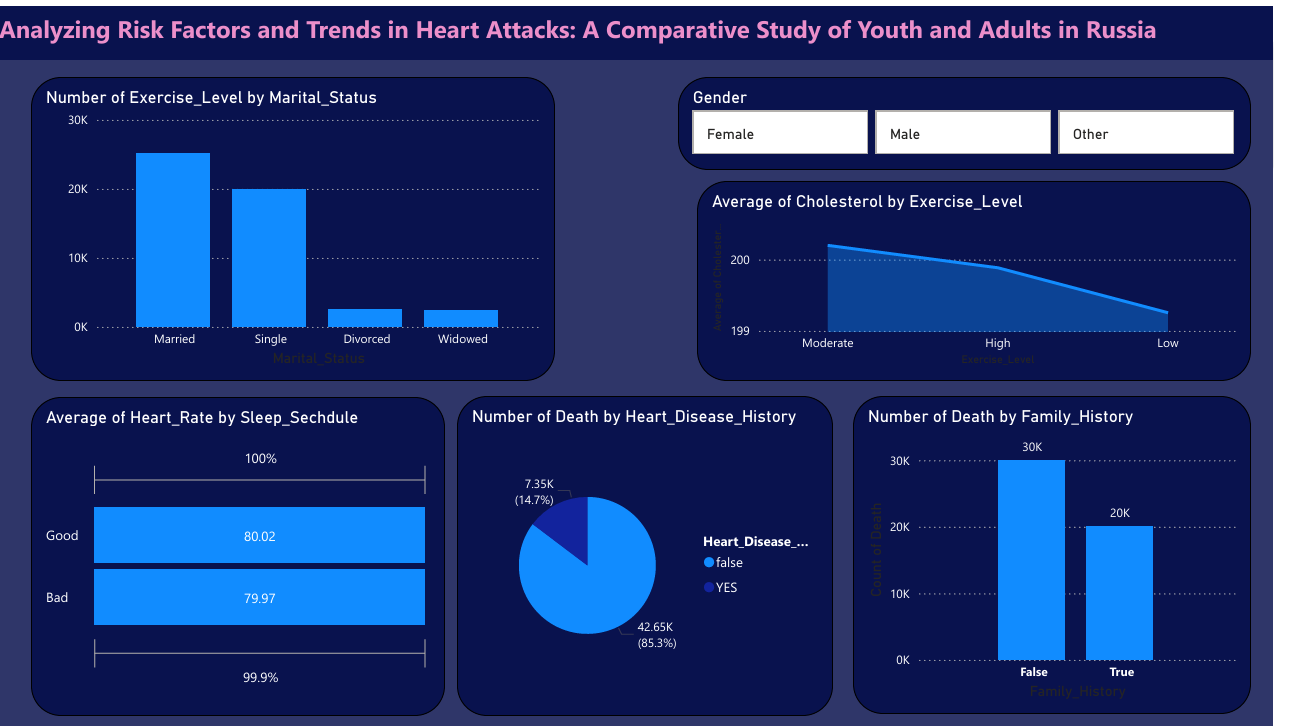

The dashboard page shown, as its layout file describes it:
{"tool":"powerbi","page":{"name":"Page 3","canvas":[1280,720],"ordinal":2},"visuals":[{"type":"areaChart","fields":{"Category":["heart_attack_russia_youth_vs_ad.Exercise_Level"],"Y":["Avg(heart_attack_russia_youth_vs_ad.Cholesterol)"]},"box":[702.9,174.3,554.3,200],"z":0},{"type":"funnel","fields":{"Category":["heart_attack_russia_youth_vs_ad.Sleep_Sechdule"],"Y":["Avg(heart_attack_russia_youth_vs_ad.Heart_Rate)"]},"box":[37.1,390,414.3,318.6],"z":1000},{"type":"columnChart","title":"Number of Exercise_Level by Marital_Status","fields":{"Category":["heart_attack_russia_youth_vs_ad.Marital_Status"],"Y":["CountNonNull(heart_attack_russia_youth_vs_ad.Exercise_Level)"]},"box":[37.1,70,524.3,304.3],"z":2000},{"type":"advancedSlicerVisual","fields":{"Values":["heart_attack_russia_youth_vs_ad.Gender"]},"box":[684.3,70,572.9,92.9],"z":3000},{"type":"textbox","box":[0,0,1280,54.3],"z":4000},{"type":"pieChart","title":"Number of Death by Heart_Disease_History","fields":{"Category":["heart_attack_russia_youth_vs_ad.Heart_Disease_History"],"Y":["CountNonNull(heart_attack_russia_youth_vs_ad.Death)"]},"box":[462.9,388.6,375.7,320],"z":5000},{"type":"columnChart","title":"Number of Death by Family_History","fields":{"Category":["heart_attack_russia_youth_vs_ad.Family_History"],"Y":["CountNonNull(heart_attack_russia_youth_vs_ad.Death)"]},"box":[858.6,388.6,398.6,318.6],"z":6000}]}

Visuals, with their boxes in screenshot pixels (x1, y1, x2, y2), scaled from the page's 1280x720 canvas onto the 1291x727 screenshot:
areaChart - heart_attack_russia_youth_vs_ad.Exercise_Level x Avg(heart_attack_russia_youth_vs_ad.Cholesterol): select_region(709, 176, 1268, 378)
funnel - heart_attack_russia_youth_vs_ad.Sleep_Sechdule x Avg(heart_attack_russia_youth_vs_ad.Heart_Rate): select_region(37, 394, 455, 715)
"Number of Exercise_Level by Marital_Status" columnChart: select_region(37, 71, 566, 378)
advancedSlicerVisual - heart_attack_russia_youth_vs_ad.Gender: select_region(690, 71, 1268, 164)
textbox: select_region(0, 0, 1290, 55)
"Number of Death by Heart_Disease_History" pieChart: select_region(467, 392, 846, 715)
"Number of Death by Family_History" columnChart: select_region(866, 392, 1268, 714)
